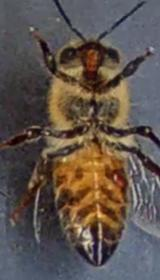varroa_mite: (100, 158, 136, 192)
